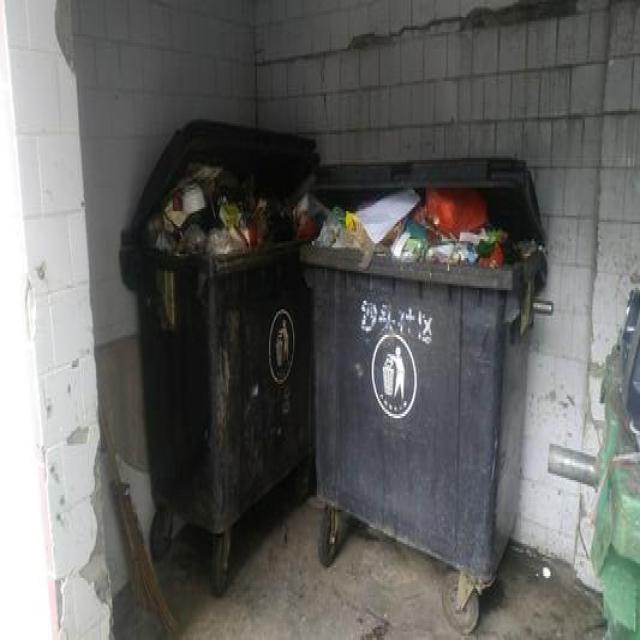overflow: (299, 156, 548, 576), (117, 118, 320, 532)
